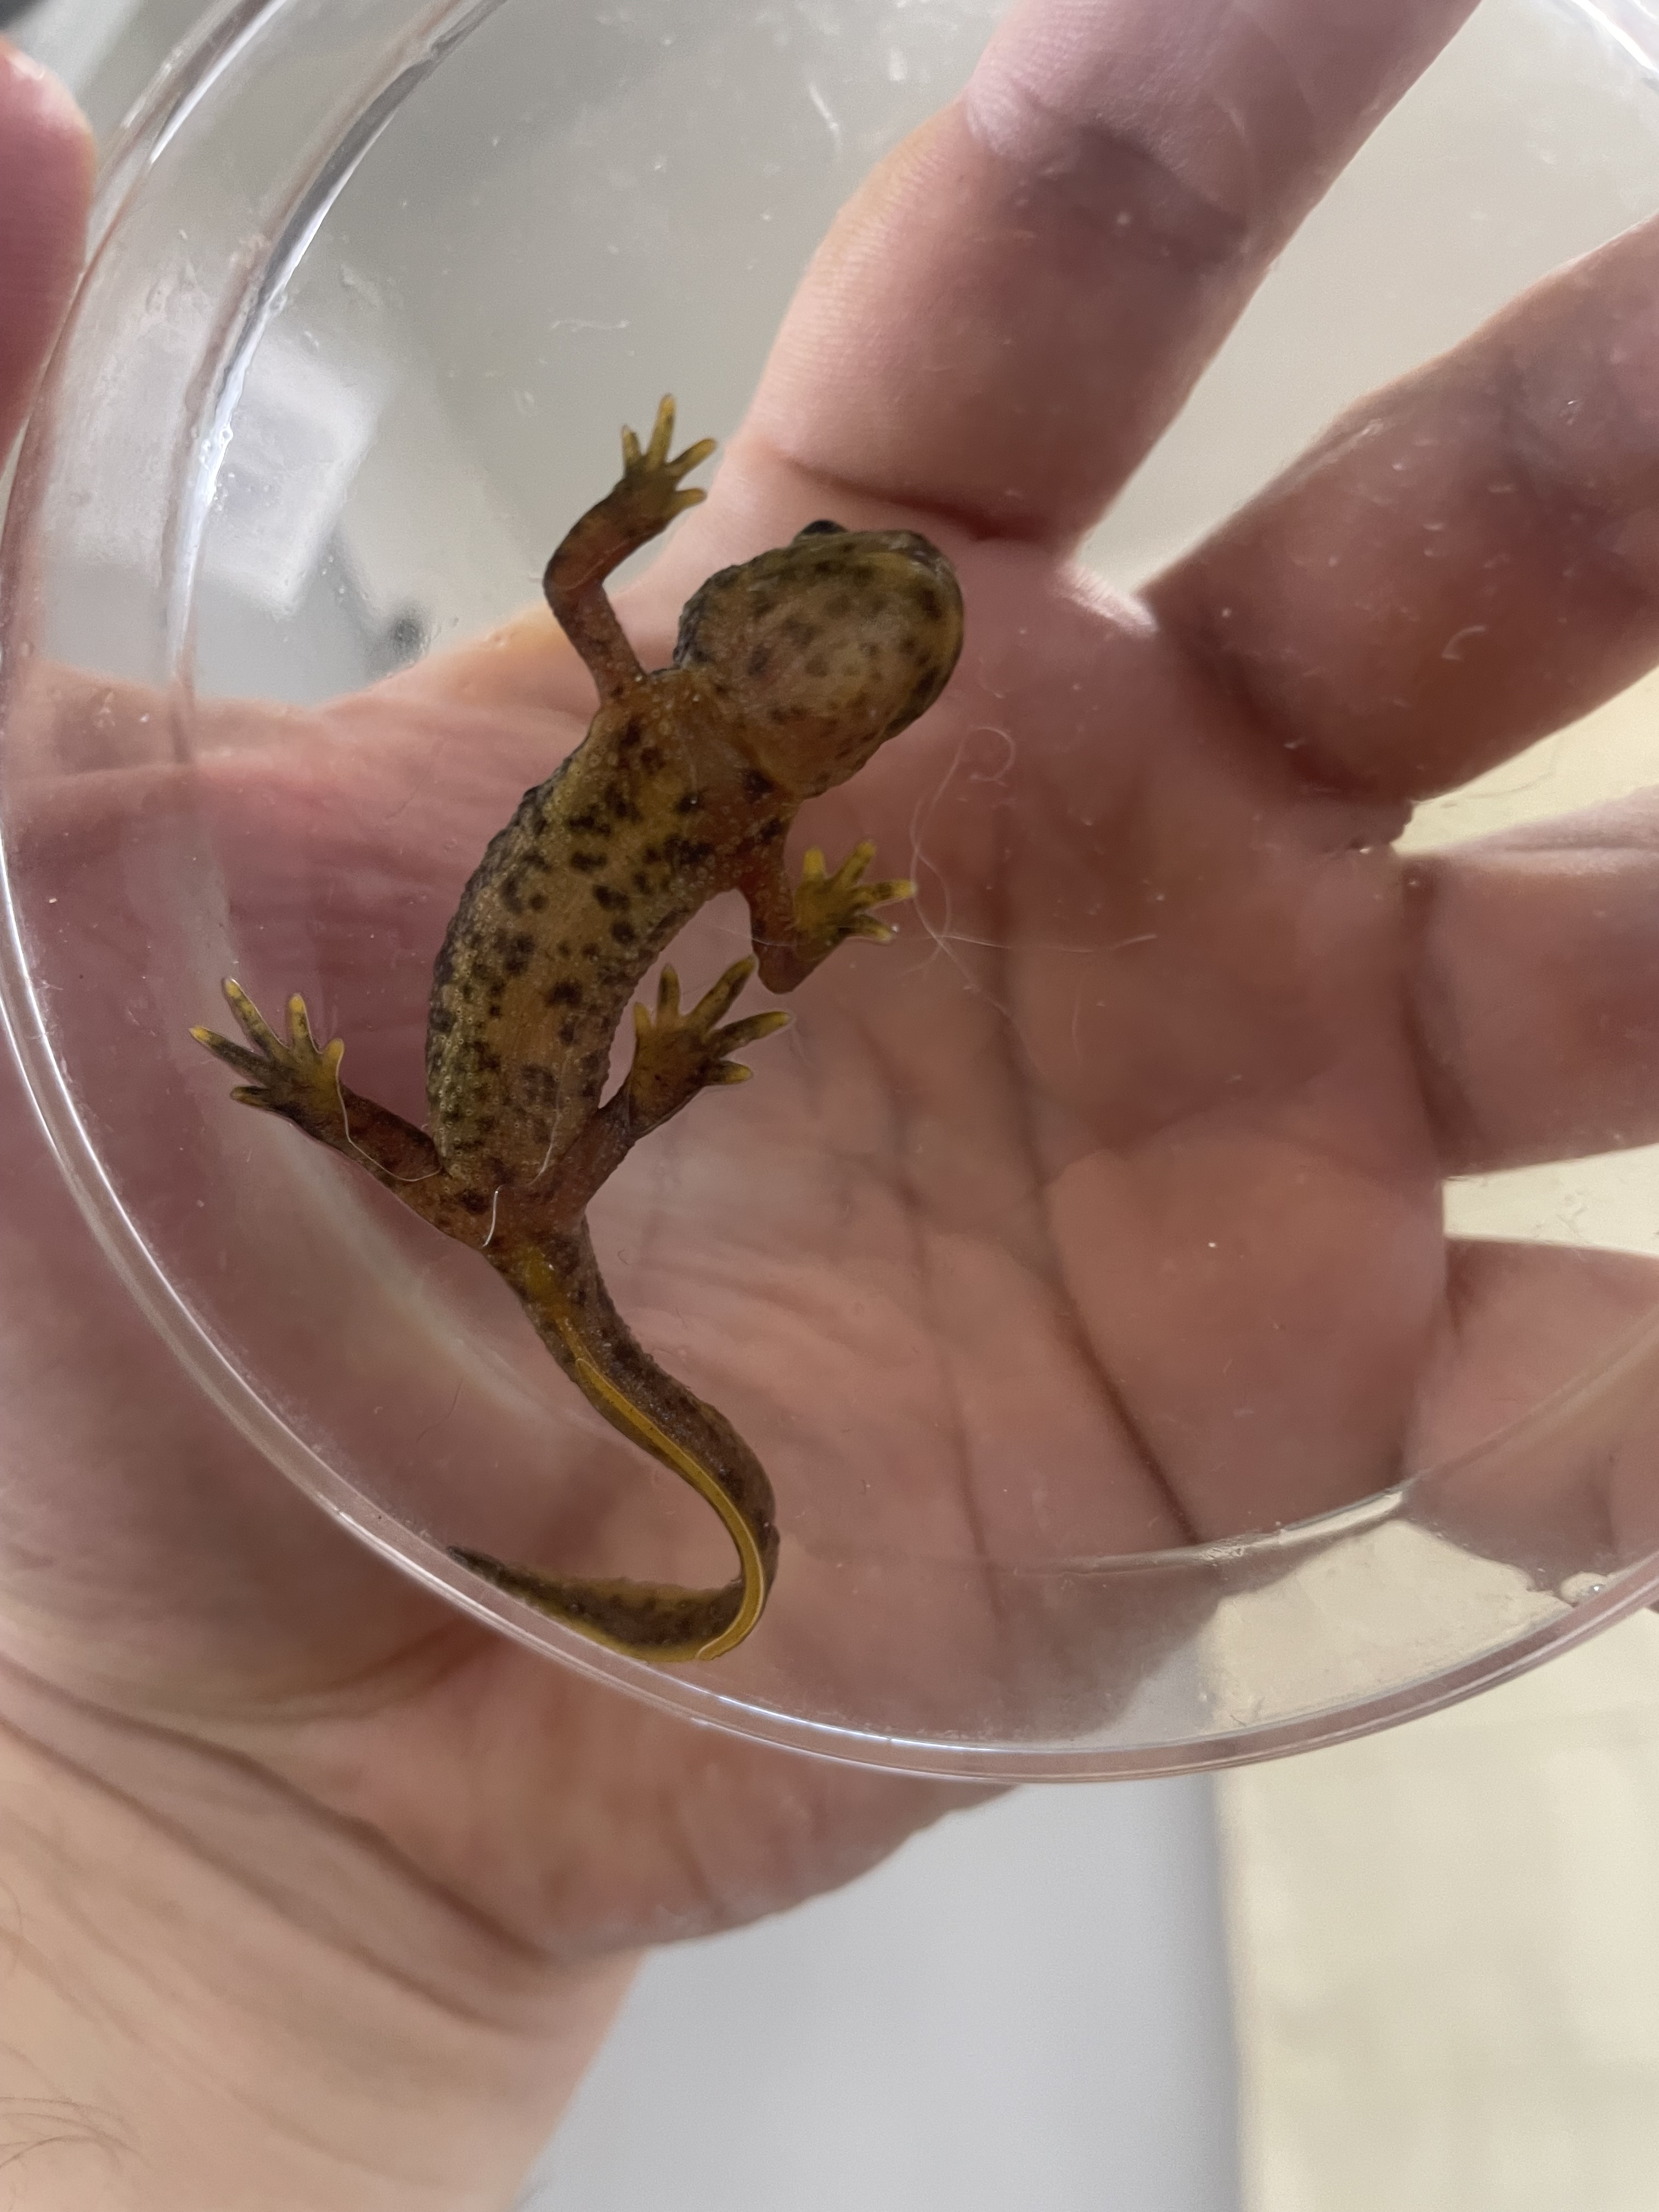newt_ribbed: (427, 705, 737, 1141)
